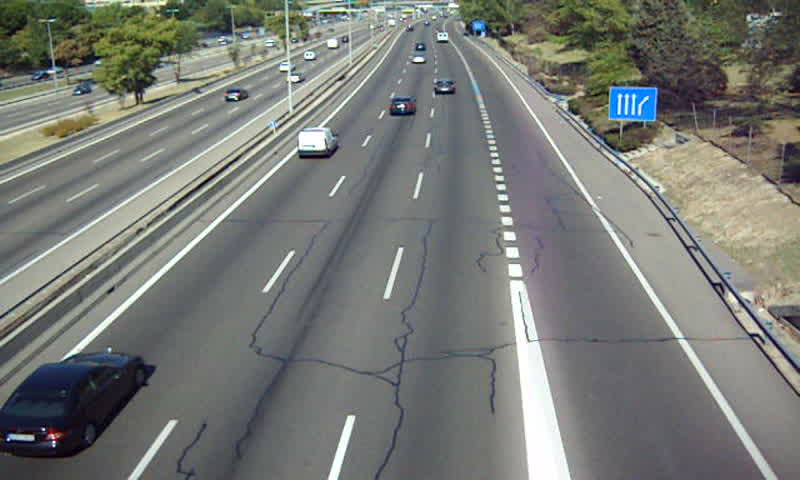car: (1, 355, 146, 458), (389, 95, 417, 116), (432, 78, 457, 97)
van: (297, 129, 339, 157)
